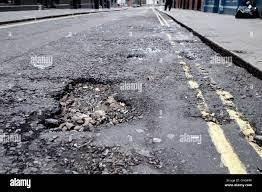pothole: (43, 76, 131, 133)
